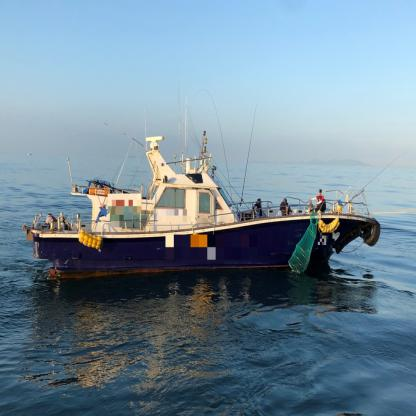fish-b: (18, 90, 385, 288)
